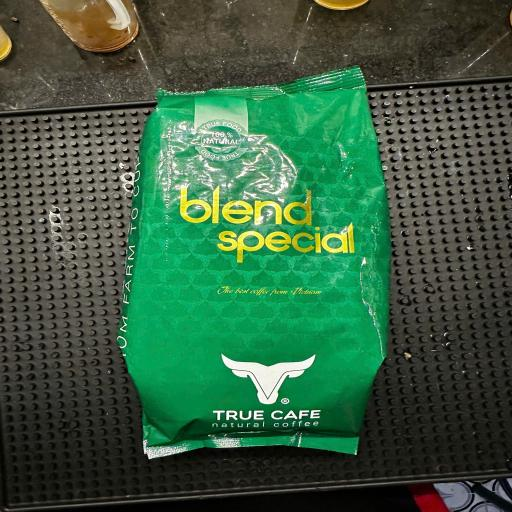cafe_xay: (157, 88, 383, 451)
